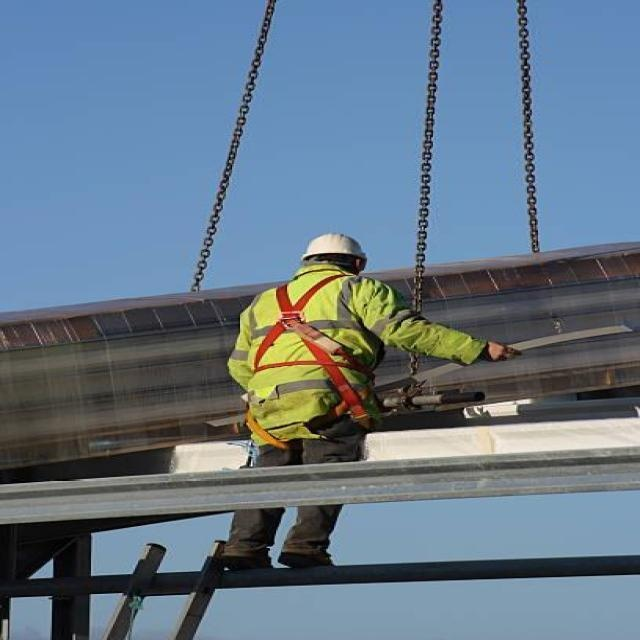Arnes_seguridad: (246, 276, 367, 432)
